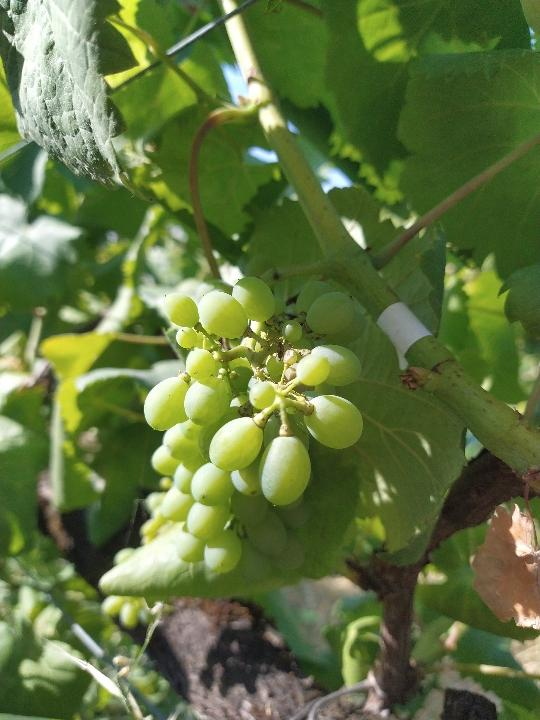grape: (142, 266, 375, 584)
